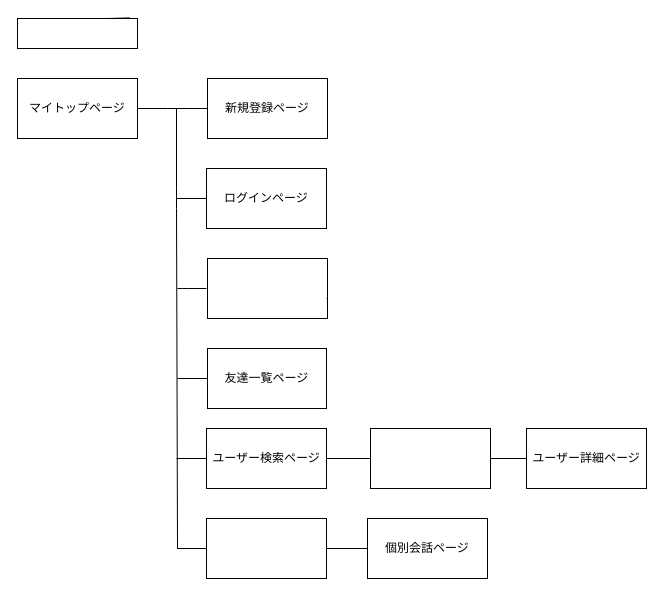
This 664x596 diagram has some shape labels left out. The box of each missing label's shape, as (x1, y1, x2, y2) in pixels:
プロフィール 編集ページ: (206, 258, 328, 318)
友達会話ページ: (206, 518, 326, 578)
検索結果一覧ページ: (370, 428, 490, 488)
画面遷移図: (16, 18, 138, 48)
